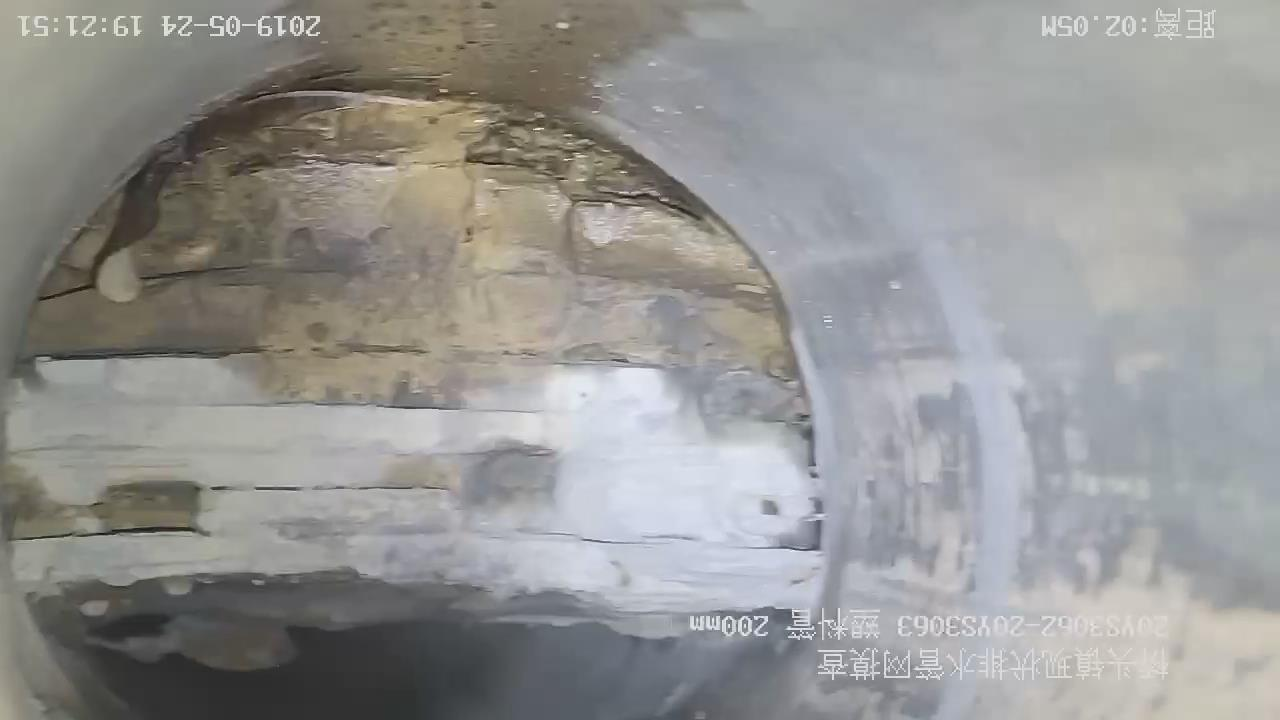CQBG: (5, 94, 820, 624)
